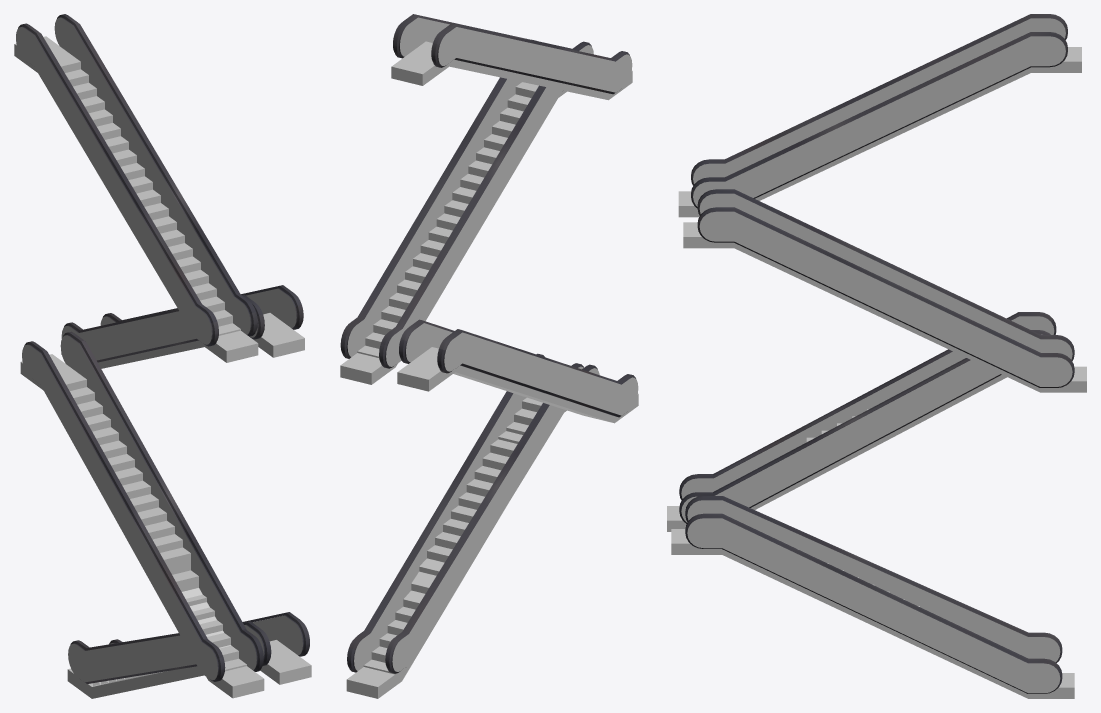
File: SM_Scene_A_Escalator00.fbx
3 views of the same model, side by side, from view 1: azimuth 30°, elevation 25°; view 2: azimuth 150°, elevation 25°; view 3: azimuth 270°, elevation 25° (orthographic). The views are drawn at different scales.
Parts seen in each view (by area): view 1: SM_Scene_A_Escalator00; view 2: SM_Scene_A_Escalator00; view 3: SM_Scene_A_Escalator00.
Part boxes in pixels (box(x1,y1,x2,y2)): SM_Scene_A_Escalator00: box(14, 14, 311, 698); SM_Scene_A_Escalator00: box(340, 14, 638, 698); SM_Scene_A_Escalator00: box(667, 14, 1086, 698).
Bounding box in the file's own units: 394 × 2683 × 1583.
